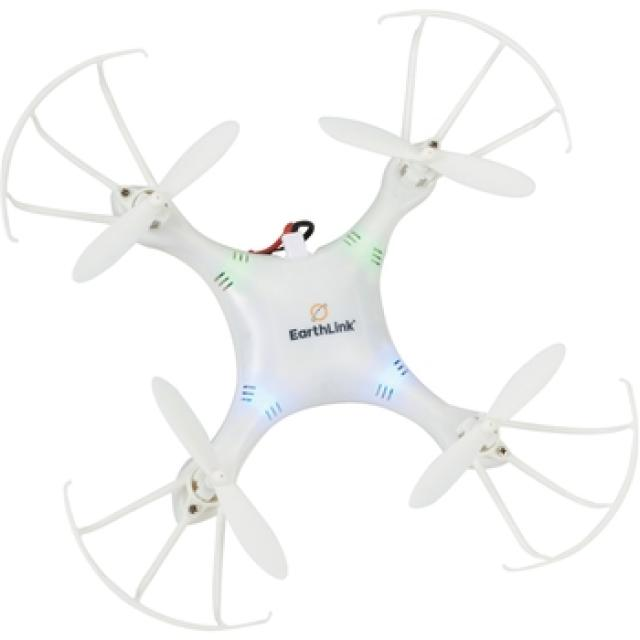drone: (5, 26, 640, 624)
